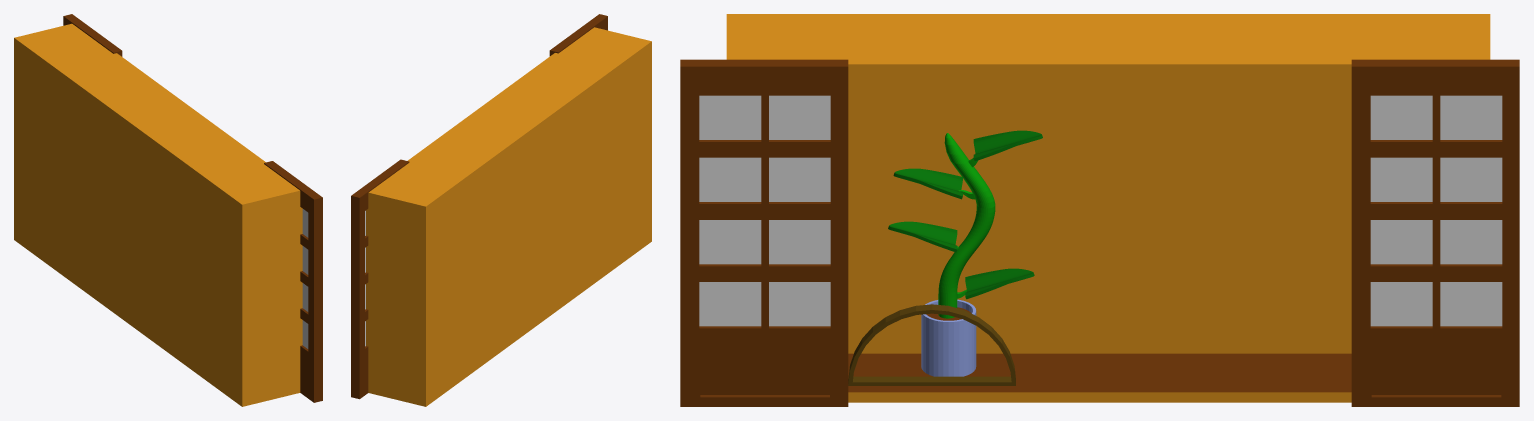
Rendered from fond.fbx.
The picture shows the model from 3 angles, left to right: view 1: azimuth 30°, elevation 25°; view 2: azimuth 150°, elevation 25°; view 3: azimuth 270°, elevation 25°; orthographic projection. The views are drawn at different scales.
Parts seen in each view (by area): view 1: Cube.003, Cube.001, Cube.002; view 2: Cube.003, Cube.002, Cube.001; view 3: Cube.003, Cube.001, Cube.002, Circle, Cylinder.001, Cylinder, Plane.002, Plane.004, Plane.003, Plane.
Boxes of the visible parts, box(x1,y1,x2,y2) form: Cube.003: box(14, 23, 302, 406); Cube.001: box(264, 161, 322, 402); Cube.002: box(63, 14, 122, 56); Cube.003: box(366, 27, 651, 406); Cube.002: box(351, 159, 409, 399); Cube.001: box(549, 14, 607, 56); Cube.003: box(726, 14, 1490, 402); Cube.001: box(680, 59, 848, 406); Cube.002: box(1351, 59, 1519, 406); Circle: box(848, 304, 1015, 385); Cylinder.001: box(938, 133, 995, 318); Cylinder: box(921, 299, 976, 376); Plane.002: box(973, 130, 1042, 161); Plane.004: box(888, 221, 957, 252); Plane.003: box(893, 168, 962, 199); Plane: box(965, 268, 1034, 299).
Bounding box in the file's own units: 154 × 447 × 1000.
